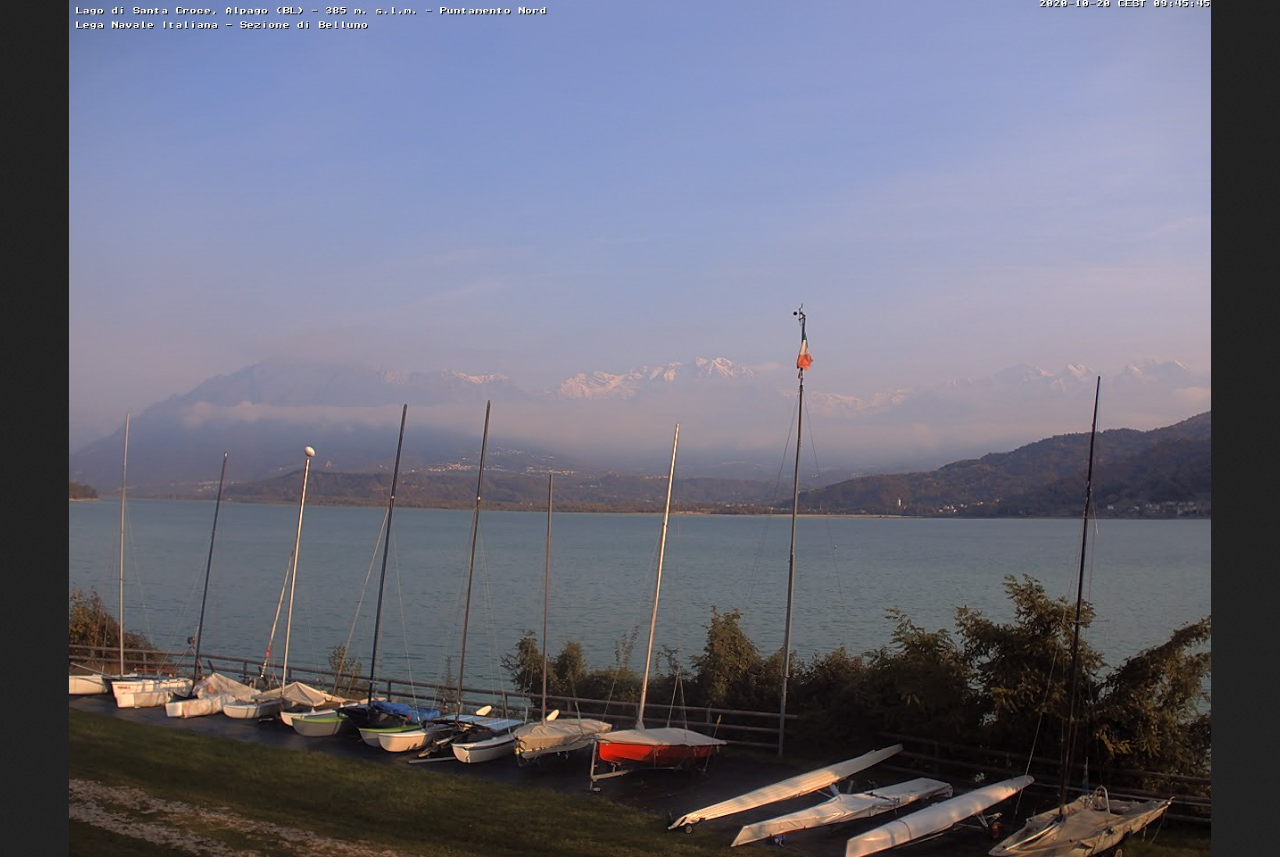no: (799, 320, 814, 376)
